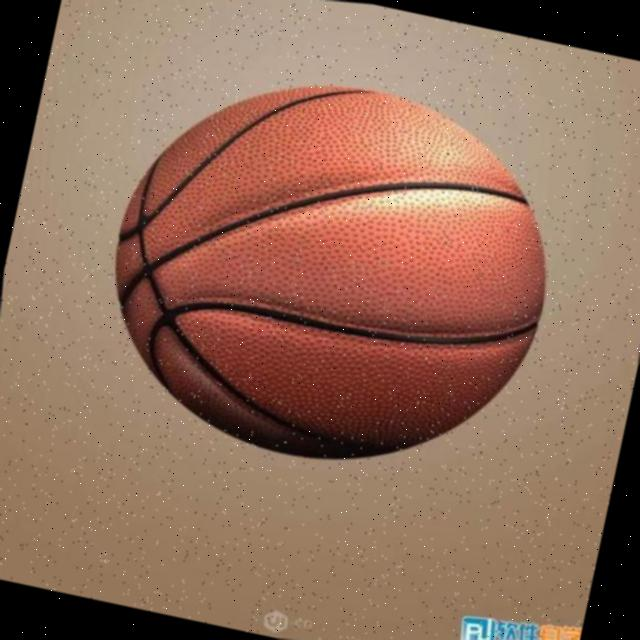ball: (55, 14, 604, 528)
